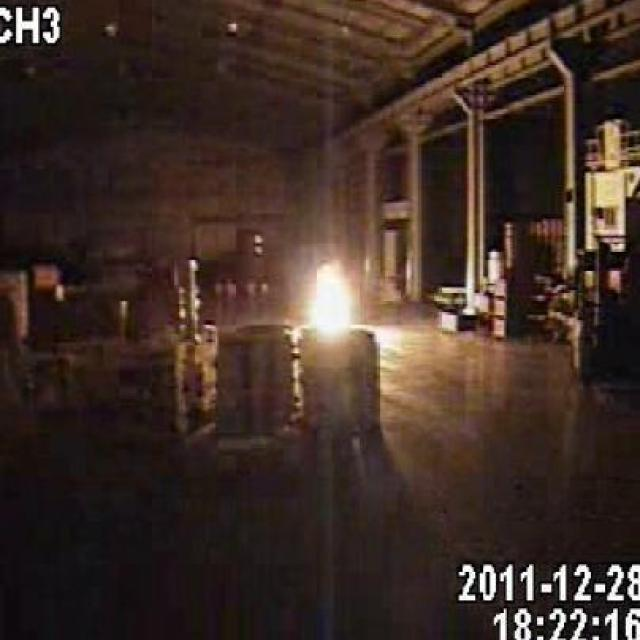smoke: (296, 252, 363, 342)
